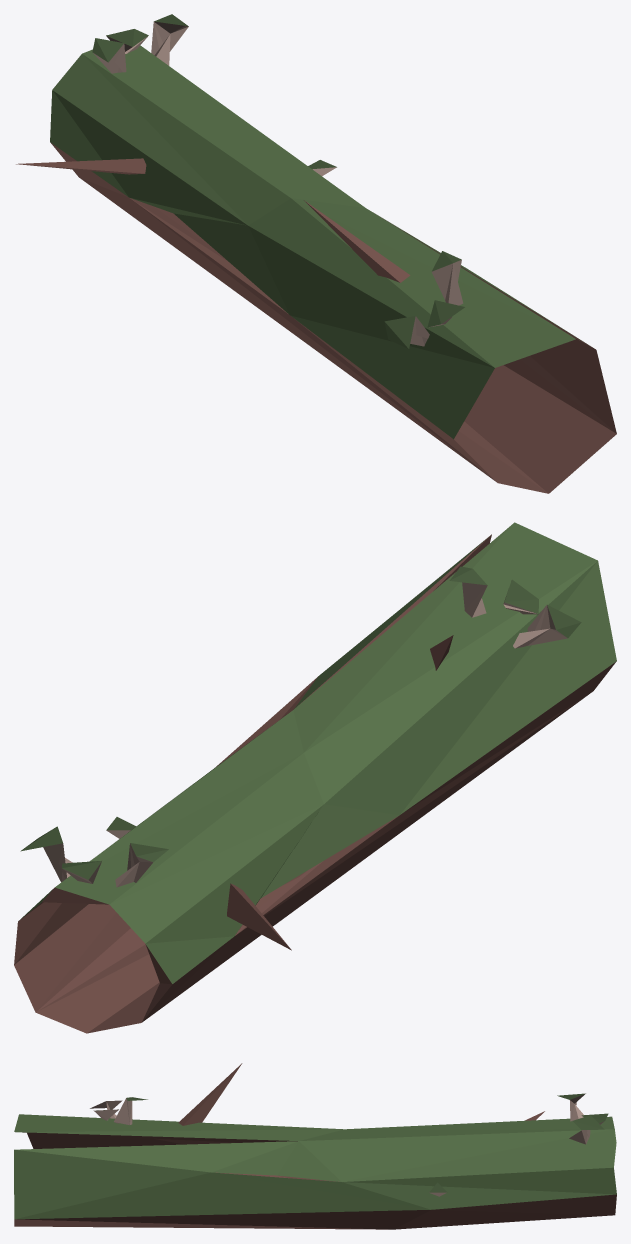
Rendered from WoodLog_Moss.lod2.glb.
3 renders of one model, top to bottom at view 1: azimuth 30°, elevation 25°; view 2: azimuth 150°, elevation 25°; view 3: azimuth 270°, elevation 25°, orthographic. The views are drawn at different scales.
Visible parts, largest first — view 1: WoodLog_Moss; view 2: WoodLog_Moss; view 3: WoodLog_Moss.
Part boxes in pixels (left/top/right/bottom): WoodLog_Moss: left=16, top=14, right=616, bottom=493; WoodLog_Moss: left=14, top=522, right=616, bottom=1033; WoodLog_Moss: left=14, top=1063, right=616, bottom=1229.
Bounding box in the file's own units: 0.8577 × 0.6647 × 2.67.
